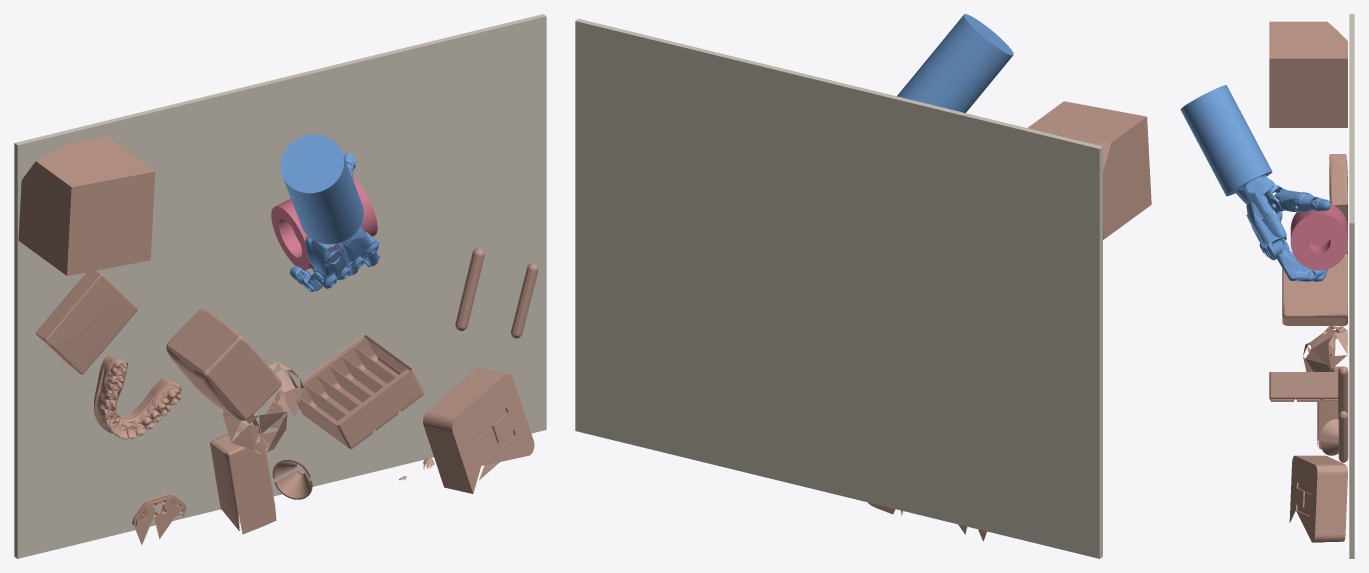
3 renders of one model, left to right at view 1: azimuth 30°, elevation 25°; view 2: azimuth 150°, elevation 25°; view 3: azimuth 270°, elevation 25°, orthographic. The views are drawn at different scales.
Parts seen in each view (by area): view 1: environment, obstacle_012, hand, obstacle_003, obstacle_004, obstacle_000, obstacle_005, obstacle_011, obstacle_001, obstacle_008, world, obstacle_010 (+3 smaller); view 2: environment, obstacle_012, hand; view 3: hand, obstacle_012, obstacle_003, obstacle_000, environment, world, obstacle_004, obstacle_008, obstacle_005, obstacle_011, obstacle_009, obstacle_007 (+1 smaller).
Boxes of the visible parts, x1,y1,x2,y2 form: environment: [14, 14, 546, 558]; obstacle_012: [18, 136, 155, 275]; hand: [280, 134, 379, 292]; obstacle_003: [423, 367, 534, 493]; obstacle_004: [294, 334, 423, 449]; obstacle_000: [166, 309, 281, 420]; obstacle_005: [35, 270, 138, 374]; obstacle_011: [210, 426, 276, 534]; obstacle_001: [94, 354, 182, 439]; obstacle_008: [222, 359, 303, 454]; world: [271, 177, 377, 270]; obstacle_010: [132, 494, 186, 545]; environment: [575, 18, 1102, 558]; obstacle_012: [1027, 101, 1151, 239]; hand: [897, 14, 1013, 112]; hand: [1180, 85, 1330, 281]; obstacle_012: [1269, 21, 1347, 127]; obstacle_003: [1289, 455, 1347, 542]; obstacle_000: [1282, 253, 1347, 325]; environment: [1349, 14, 1354, 558]; world: [1290, 204, 1347, 270]; obstacle_004: [1269, 372, 1337, 401]; obstacle_008: [1303, 325, 1347, 371]; obstacle_005: [1329, 154, 1347, 224]; obstacle_011: [1317, 366, 1347, 449]; obstacle_009: [1320, 419, 1338, 455]; obstacle_007: [1338, 411, 1348, 462].
Bounding box in the file's own units: 0.7567 × 0.6091 × 0.2658.
